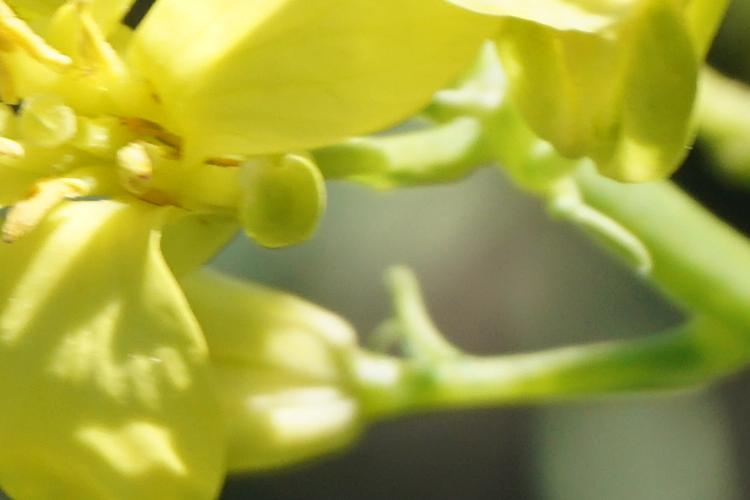yellow: (17, 10, 700, 460)
